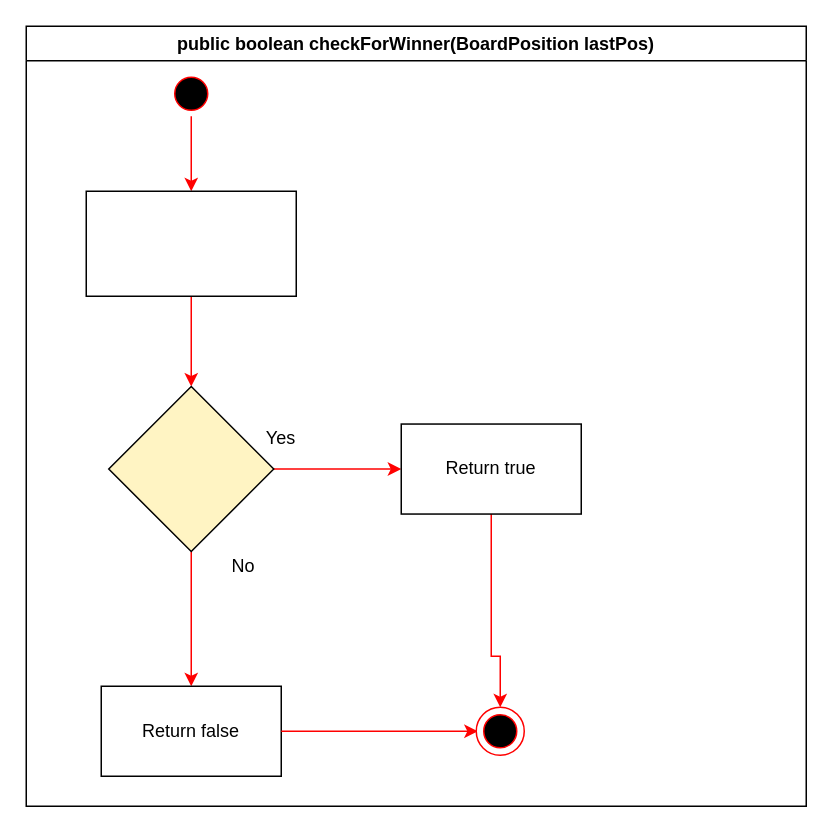
The diagram is 833 pixels wide and 833 high, and some of its shapes have lost their labels. Here are the shapes that lost their labels. From the top down, the centre of each, then its label:
pixel 190 243: Call checkHorizontalWin(), checkVerticalWin() and checkDiagonalWin()
pixel 190 468: Did any of the function calls return true?
